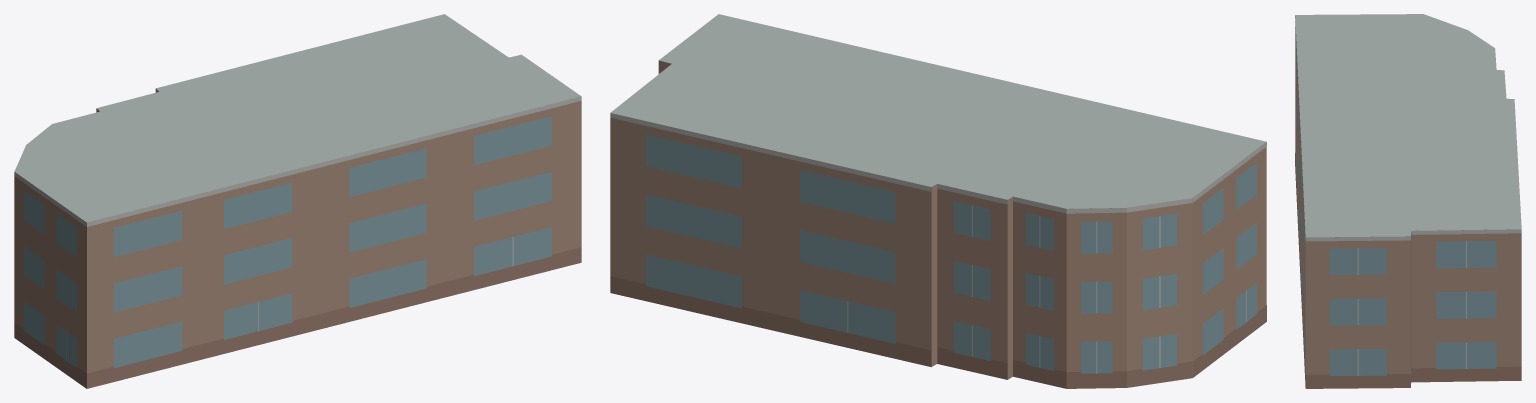
File: survey-upis-32476955.glb
The picture shows the model from 3 angles, left to right: view 1: azimuth 30°, elevation 25°; view 2: azimuth 150°, elevation 25°; view 3: azimuth 270°, elevation 25°; orthographic projection. The views are drawn at different scales.
Parts seen in each view (by area): view 1: survey-upis-32476955.tmp; view 2: survey-upis-32476955.tmp; view 3: survey-upis-32476955.tmp.
Part boxes in pixels (x1,y1,x2,y2): survey-upis-32476955.tmp: [14, 14, 581, 388]; survey-upis-32476955.tmp: [610, 14, 1266, 388]; survey-upis-32476955.tmp: [1295, 14, 1521, 388].
Bounding box in the file's own units: 28.95 × 9.15 × 12.41.
